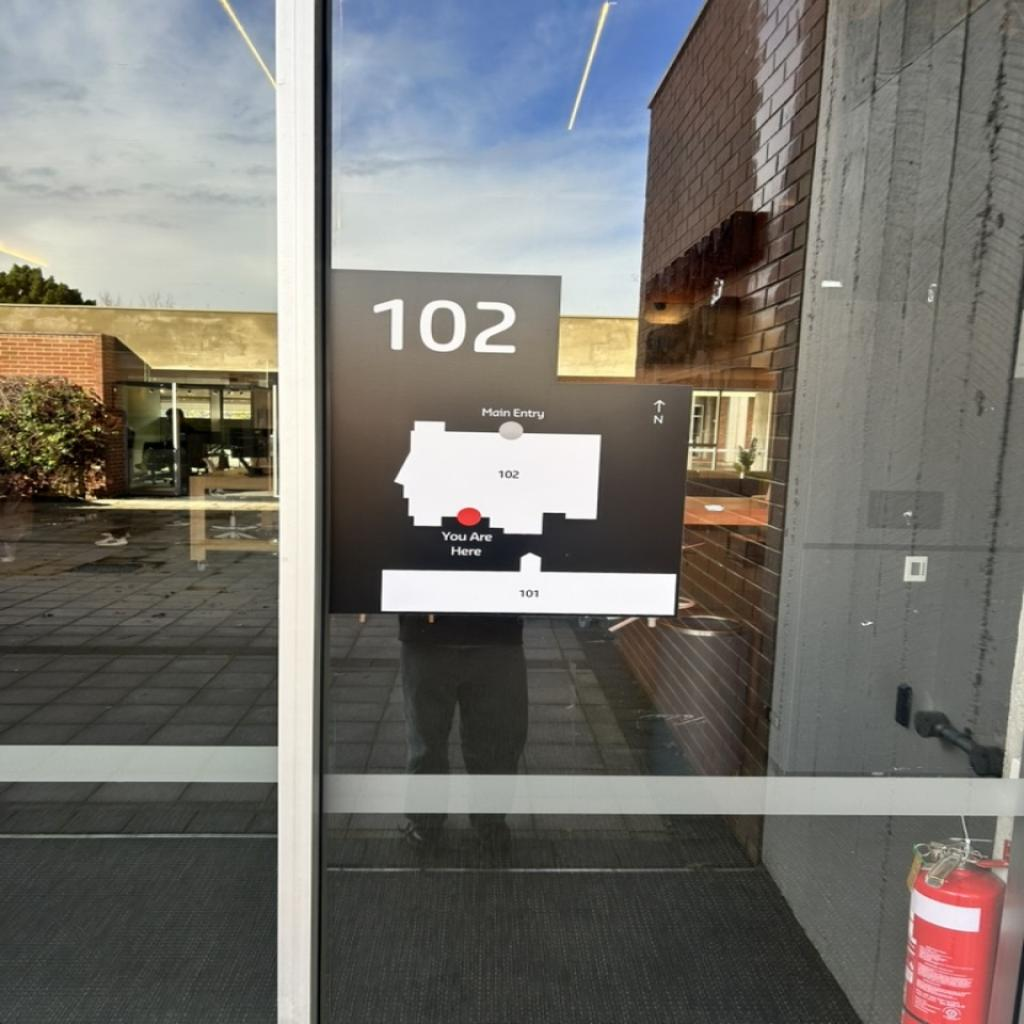BuildingCodes: (370, 293, 522, 359)
